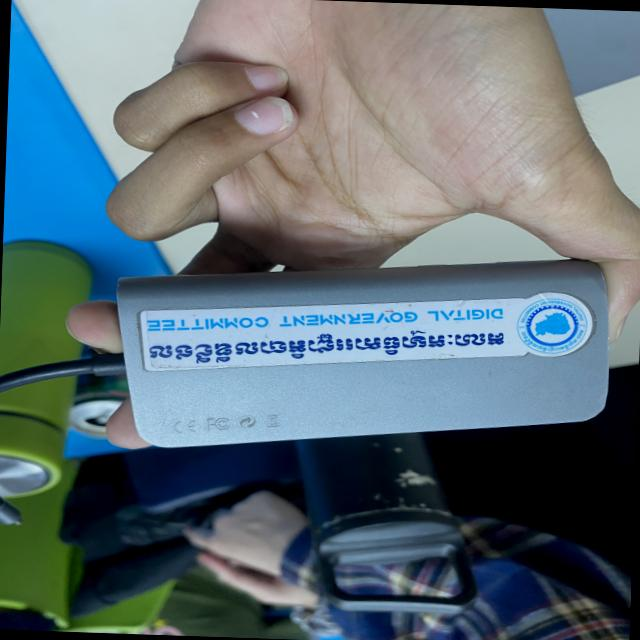Yolov11kh: (147, 324, 509, 372)
